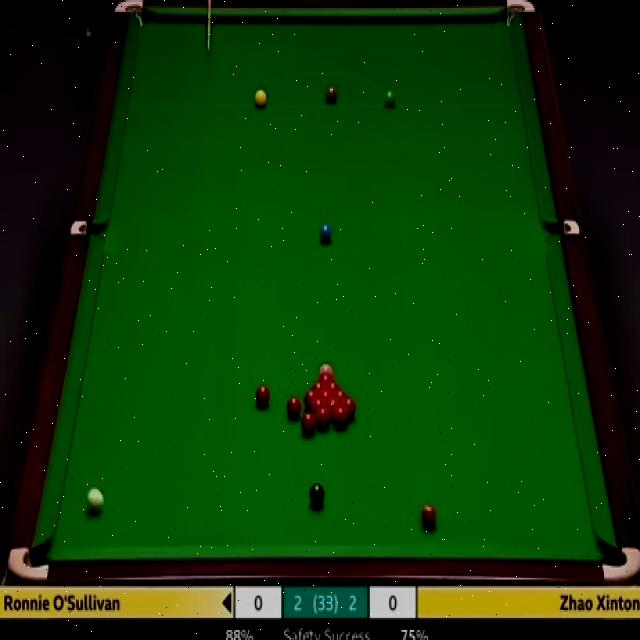black-ball: (309, 482, 325, 503)
blue-ball: (318, 224, 332, 242)
brown-ball: (325, 87, 337, 105)
green-ball: (382, 87, 398, 109)
pink-ball: (319, 364, 334, 378)
red-ball: (420, 502, 437, 527), (331, 407, 349, 429), (302, 410, 315, 436), (339, 397, 355, 418), (255, 385, 271, 406), (318, 406, 333, 428), (286, 398, 300, 418), (327, 399, 340, 419), (306, 389, 317, 402), (320, 390, 331, 403), (320, 376, 330, 388)
white-ball: (84, 486, 107, 516)
yellow-ball: (254, 89, 267, 109)
